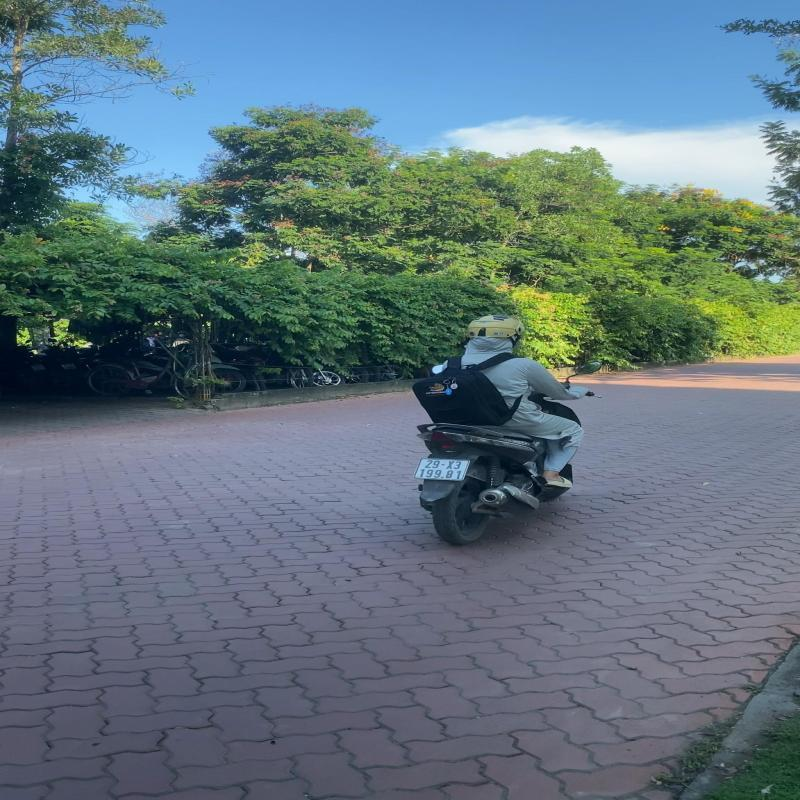helmet: (465, 316, 528, 342)
licenseplate: (413, 458, 470, 481)
motorcyclist: (411, 314, 596, 548)
